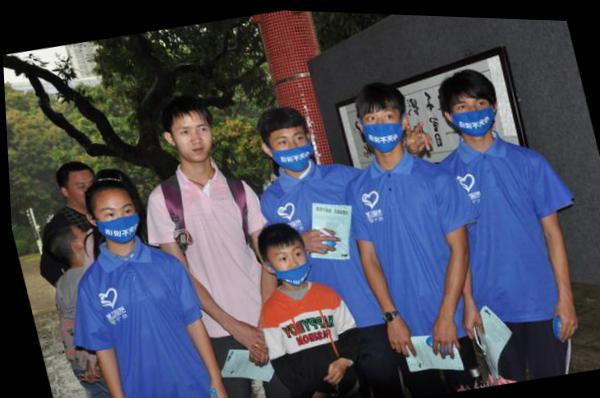NONE: (170, 111, 218, 164), (67, 169, 99, 207)
OK: (446, 81, 505, 139), (353, 99, 411, 157), (92, 194, 146, 248), (266, 123, 317, 173)
WRONG: (261, 236, 311, 286)
